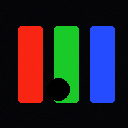2 circle: (47, 78, 69, 100)
